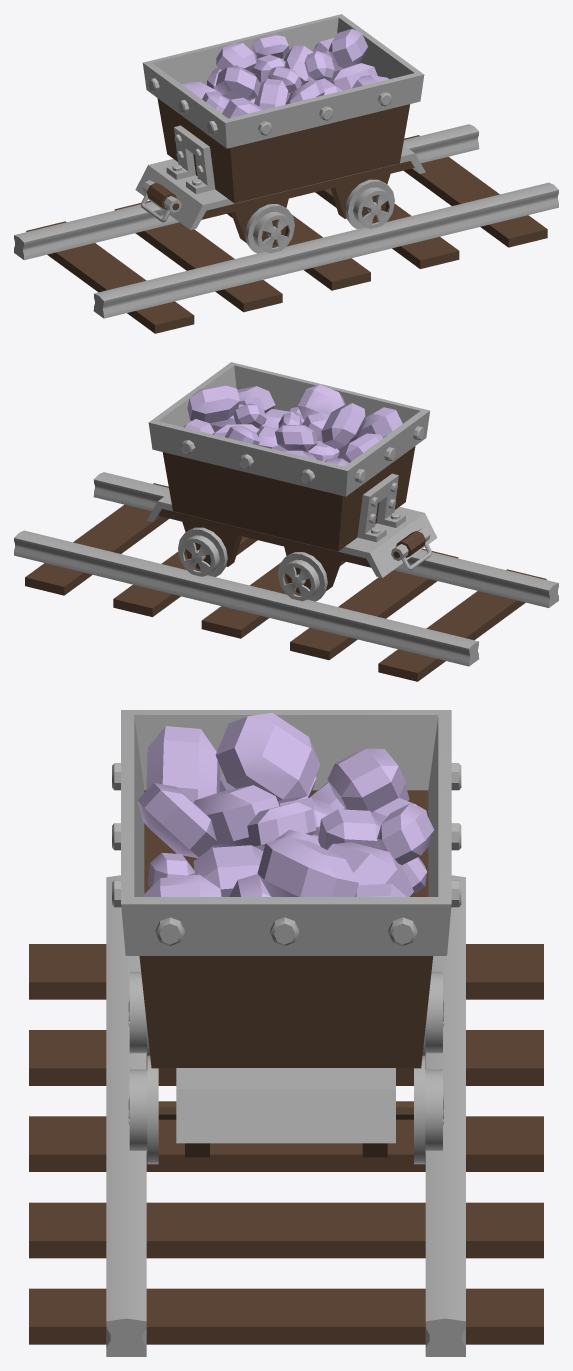
Rendered from Carrinho 1.fbx.
3 views of the same model, one above another, from view 1: azimuth 30°, elevation 25°; view 2: azimuth 150°, elevation 25°; view 3: azimuth 270°, elevation 25° (orthographic). The views are drawn at different scales.
Visible parts, largest first — view 1: Carrinho; view 2: Carrinho; view 3: Carrinho.
Part boxes in pixels (left/top/right/bottom): Carrinho: left=14, top=14, right=558, bottom=333; Carrinho: left=14, top=362, right=558, bottom=681; Carrinho: left=29, top=710, right=543, bottom=1356.
Bounding box in the file's own units: 531 × 213 × 260.
